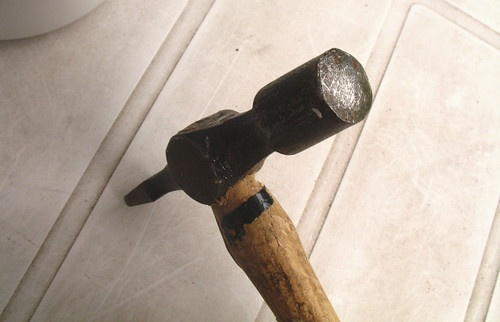hammer: (130, 43, 383, 322)
